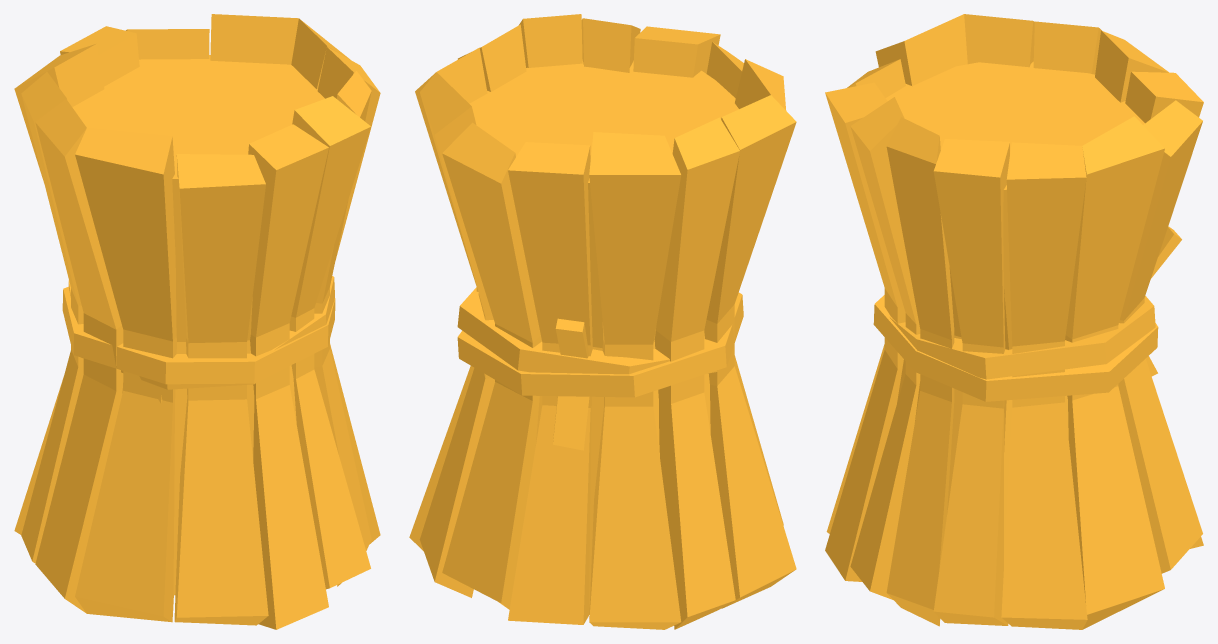
The model's file is Village_Hay.glb.
3 renders of one model, left to right at view 1: azimuth 30°, elevation 25°; view 2: azimuth 150°, elevation 25°; view 3: azimuth 270°, elevation 25°, orthographic.
Parts seen in each view (by area): view 1: Hay; view 2: Hay; view 3: Hay.
Boxes of the visible parts, x1,y1,x2,y2 form: Hay: (14, 14, 380, 629); Hay: (409, 14, 796, 629); Hay: (825, 14, 1203, 629).
Size of the model in its own units: 12.1 by 17.85 by 12.49.
